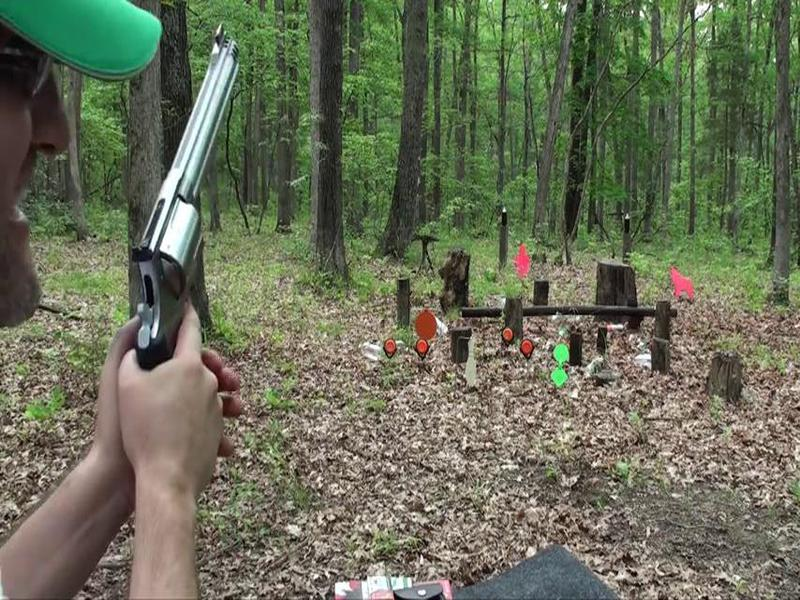Revolver: (126, 54, 286, 402)
